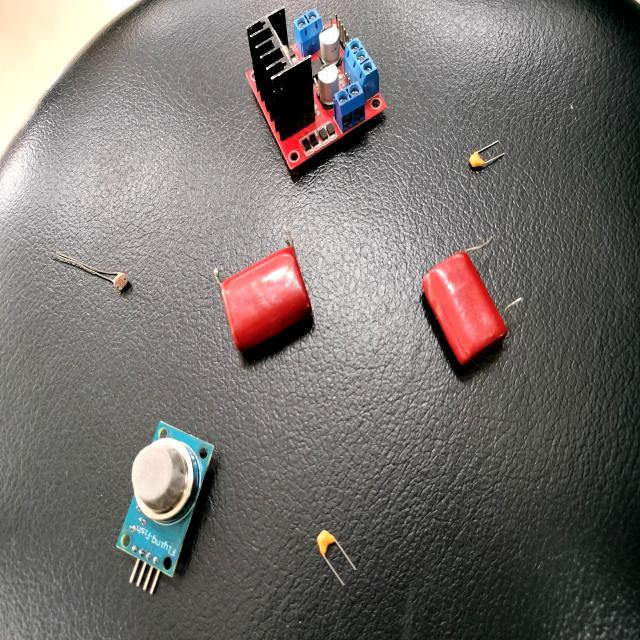capacitor: (422, 249, 507, 368), (222, 253, 312, 355), (317, 530, 335, 553), (469, 153, 484, 167)
